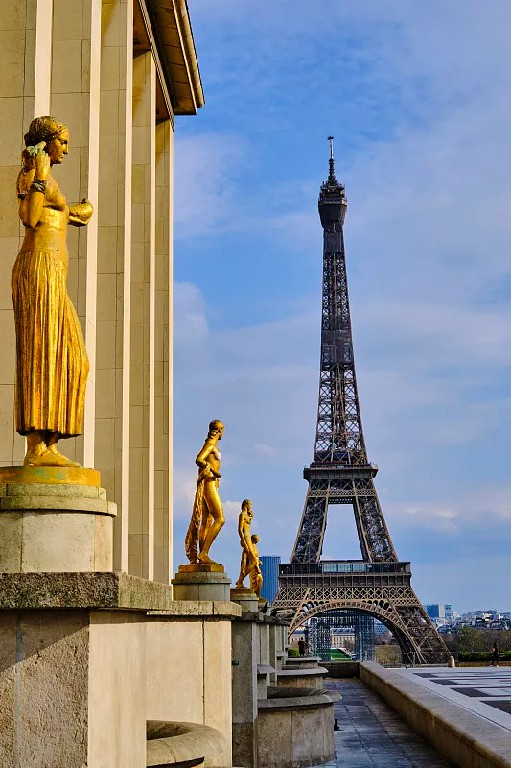Eiffel: (270, 138, 449, 665)
